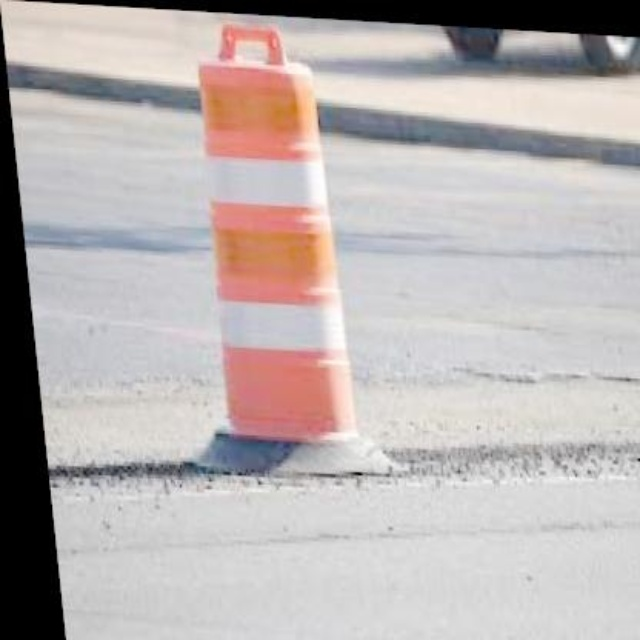obstacle: (179, 27, 349, 453)
